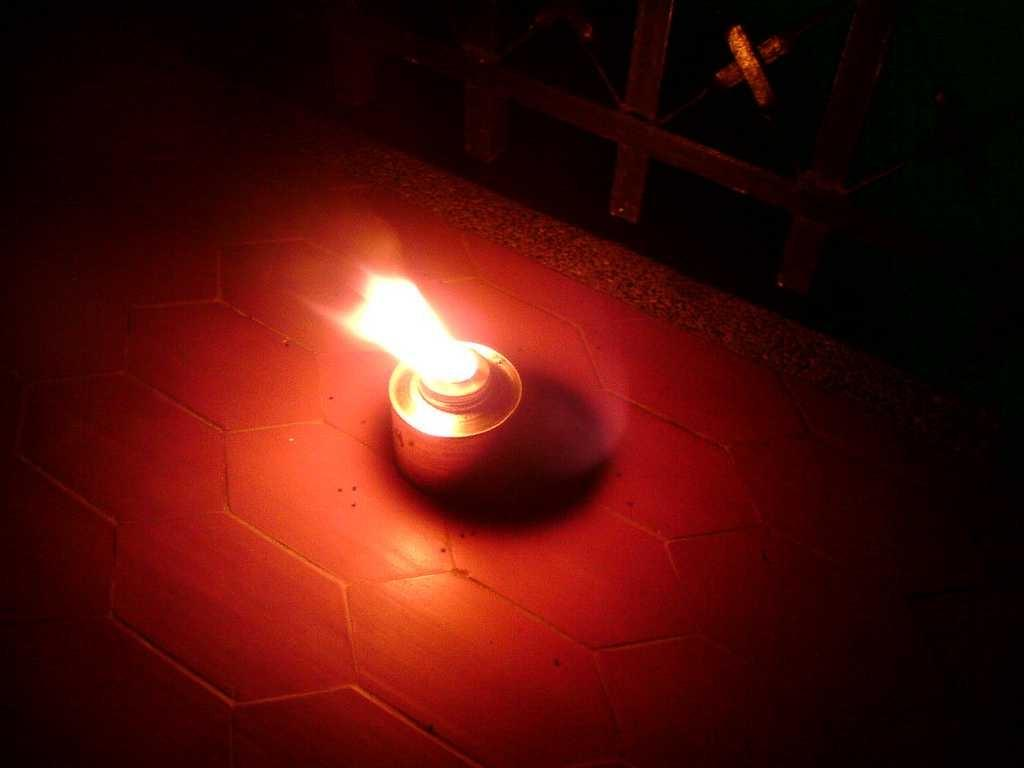fire: (324, 257, 509, 388)
